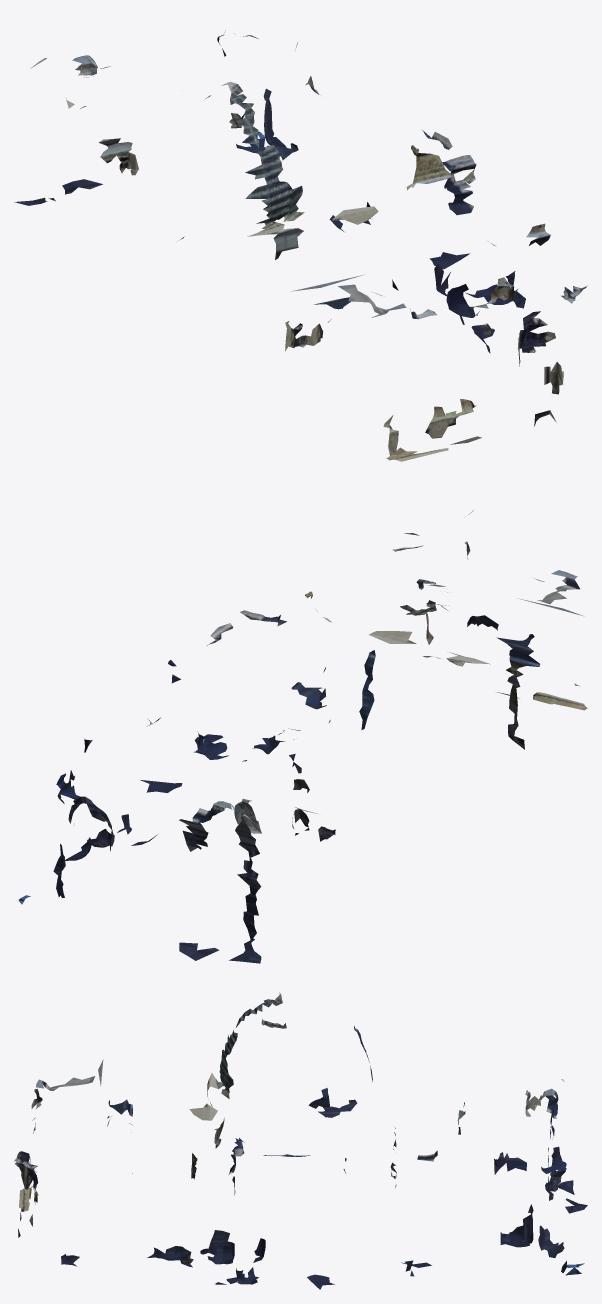
Rendered from hero-reichstag-3898_58196-material-5.glb.
3 views of the same model, one above another, from view 1: azimuth 30°, elevation 25°; view 2: azimuth 150°, elevation 25°; view 3: azimuth 270°, elevation 25° (orthographic). The views are drawn at different scales.
Visible parts, largest first — view 1: world; view 2: world; view 3: world.
Part boxes in pixels (<box>): world: <box>14,30,587,461</box>; world: <box>19,510,587,963</box>; world: <box>14,992,587,1289</box>.
Bounding box in the file's own units: 71.74 × 54.9 × 144.
Materials: 1 (1 with a texture image).
